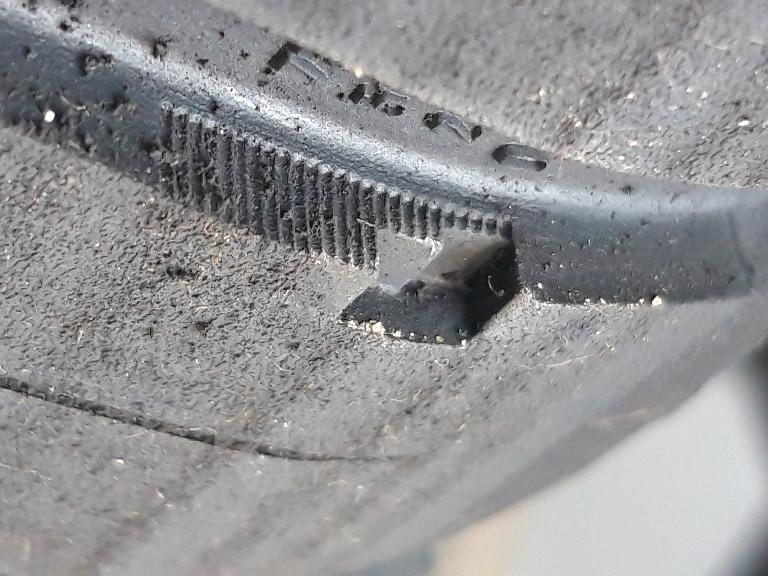temoin:50: (278, 137, 540, 365)
